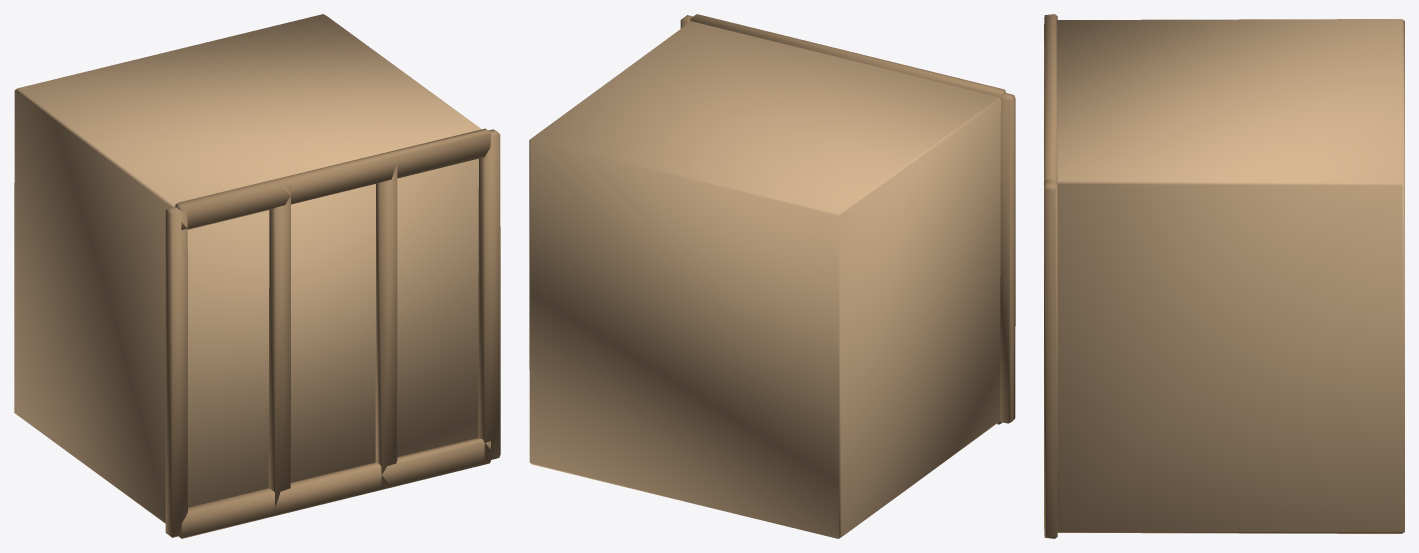
File: struct_wall.glb
3 views of the same model, side by side, from view 1: azimuth 30°, elevation 25°; view 2: azimuth 150°, elevation 25°; view 3: azimuth 270°, elevation 25° (orthographic). The views are drawn at different scales.
Visible parts, largest first — view 1: struct_wall; view 2: struct_wall; view 3: struct_wall.
Boxes of the visible parts, x1=… form: struct_wall: x1=14, y1=14, x2=500, y2=538; struct_wall: x1=529, y1=14, x2=1015, y2=538; struct_wall: x1=1044, y1=14, x2=1404, y2=538.
Size of the model in its own units: 1.06 by 1.02 by 0.9246.
